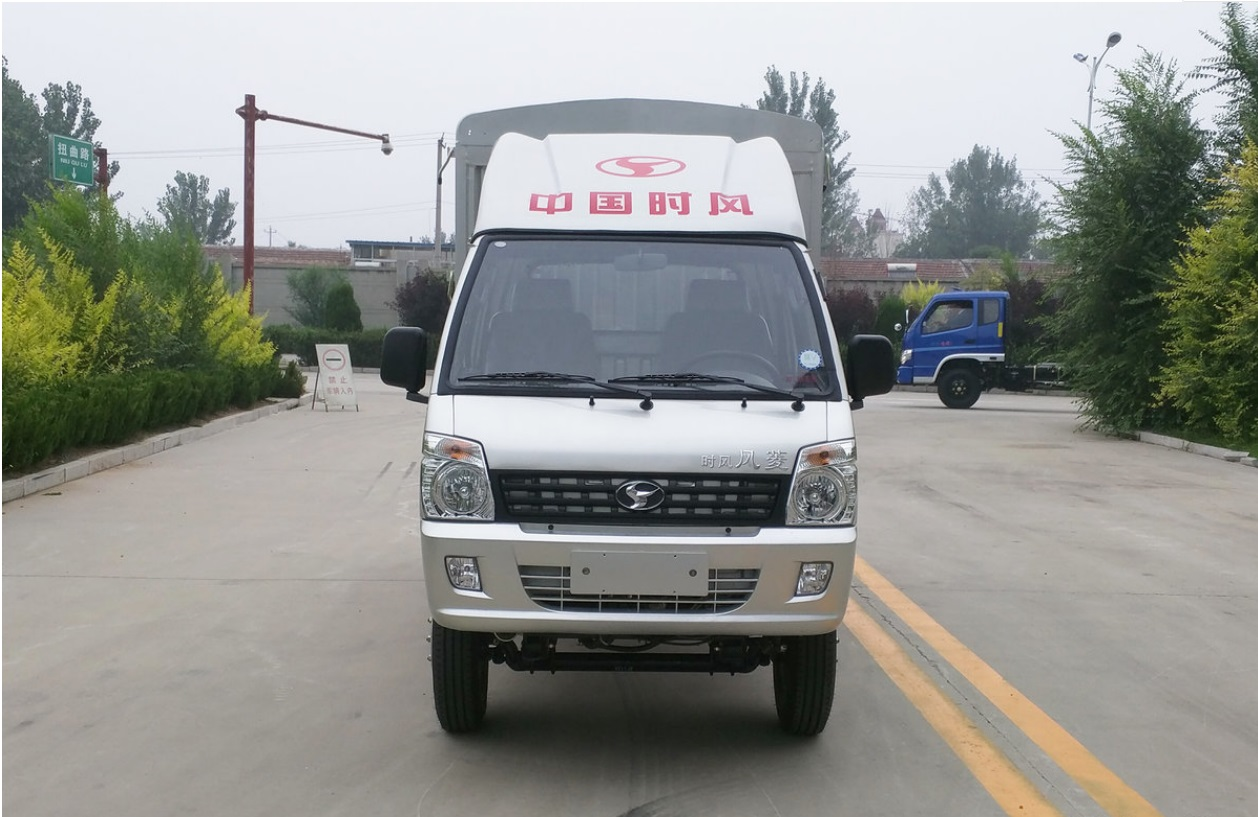truck: (378, 98, 903, 746)
